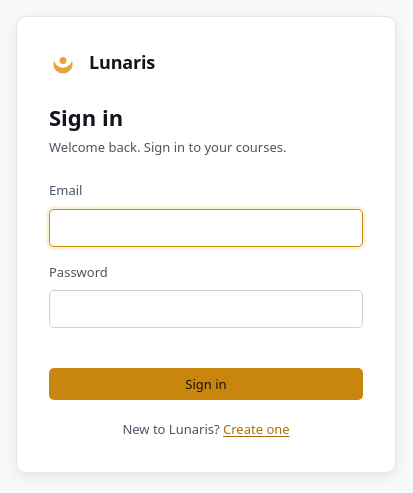
AuthScreen › disables the submit control while a sign-in is in flight
Type "a@b.com" into the field labelled "Email" at (206, 228), box [49, 208, 363, 246]
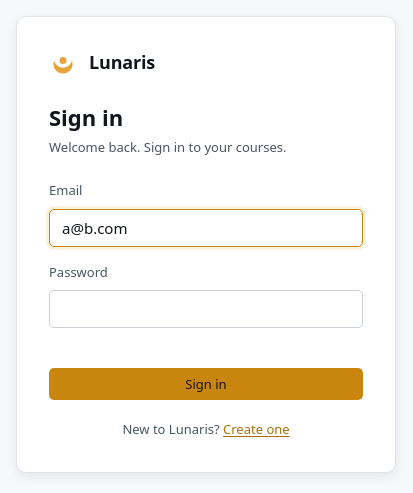
Type "secret1" into the password field labelled "Password" at (206, 309), box [49, 290, 363, 328]
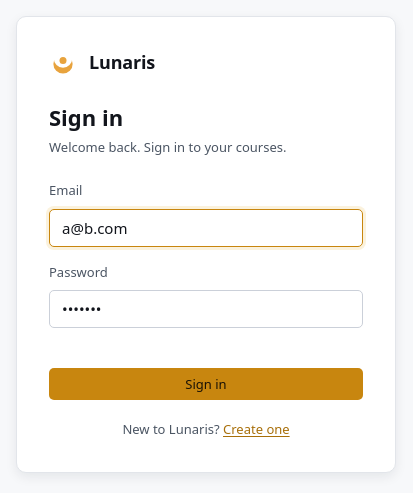
Click the button "Sign in" at (206, 384), box [49, 368, 363, 400]
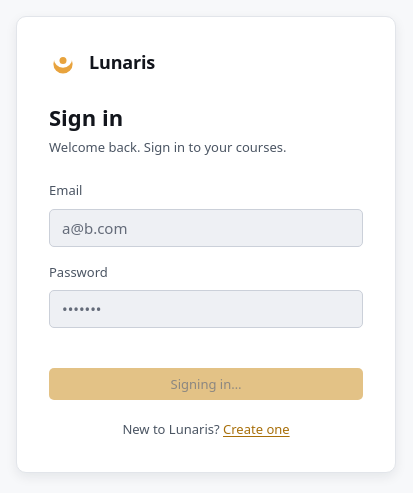
Check: the button "Signing in…" is disabled, box [49, 368, 363, 400]
